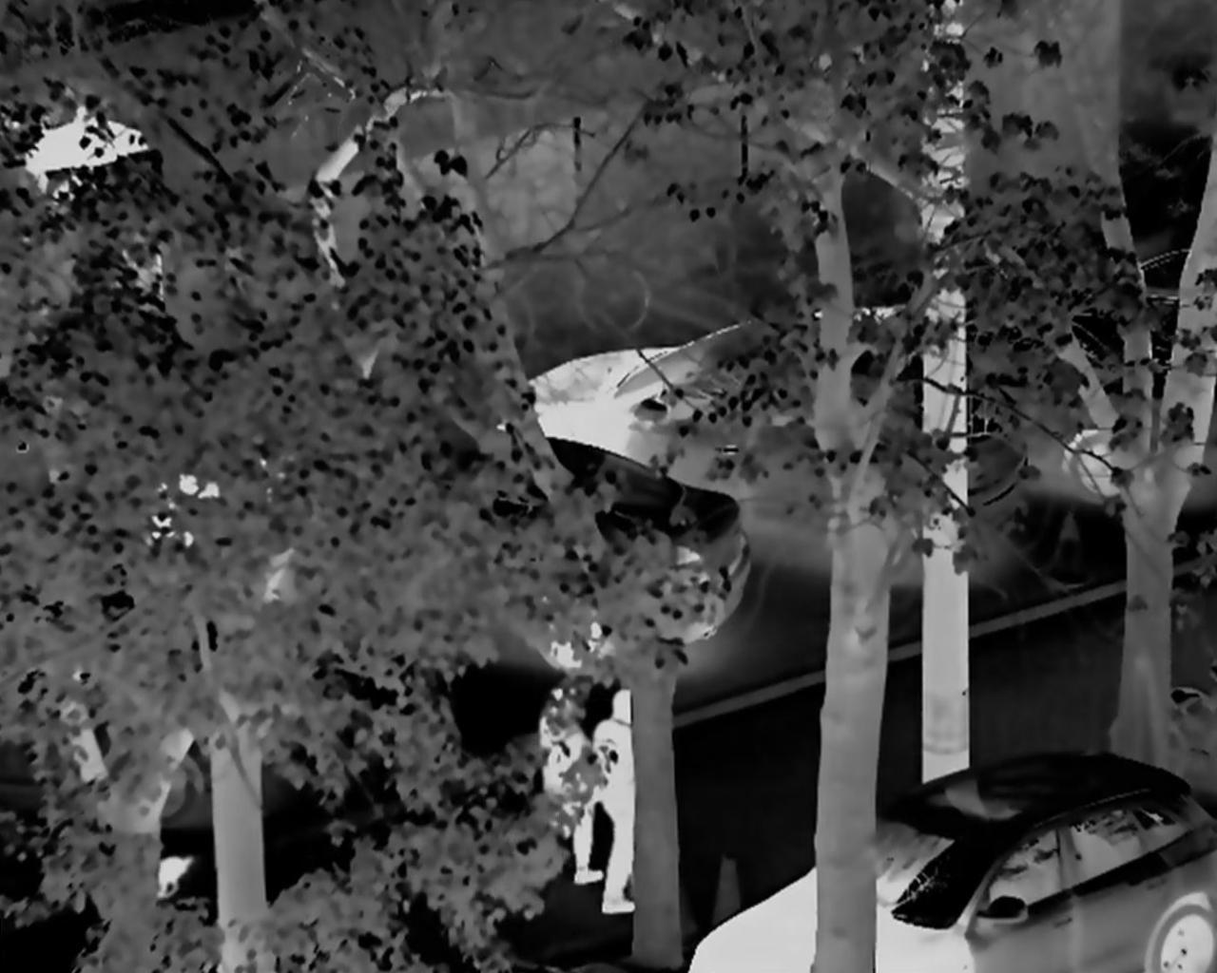person: (531, 658, 612, 901), (590, 686, 655, 912)
